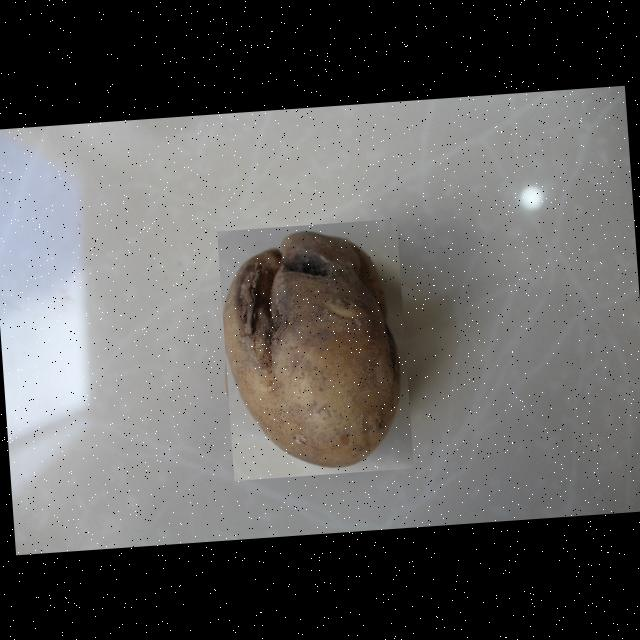Damaged potato: (216, 218, 414, 481)
